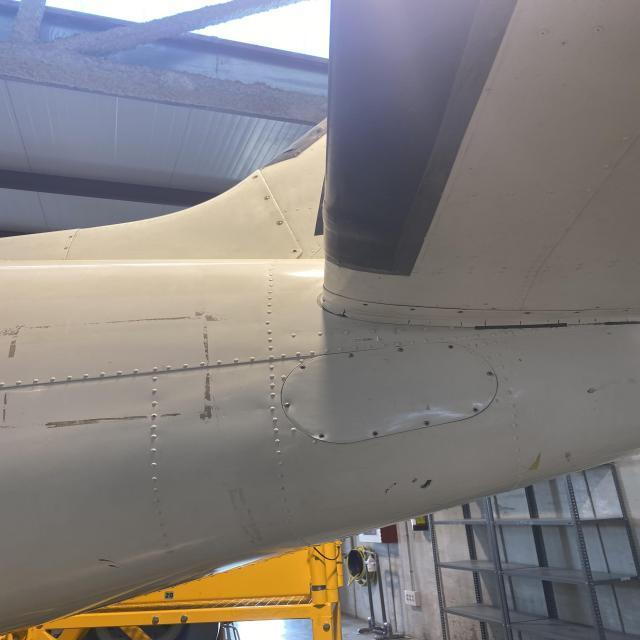Fastener Damage: (371, 430, 382, 438), (470, 407, 482, 414), (316, 432, 326, 440), (298, 363, 308, 371), (446, 344, 454, 351), (457, 310, 465, 314), (408, 308, 417, 311), (290, 250, 298, 253), (253, 176, 259, 180), (362, 303, 368, 306), (68, 236, 73, 238)
